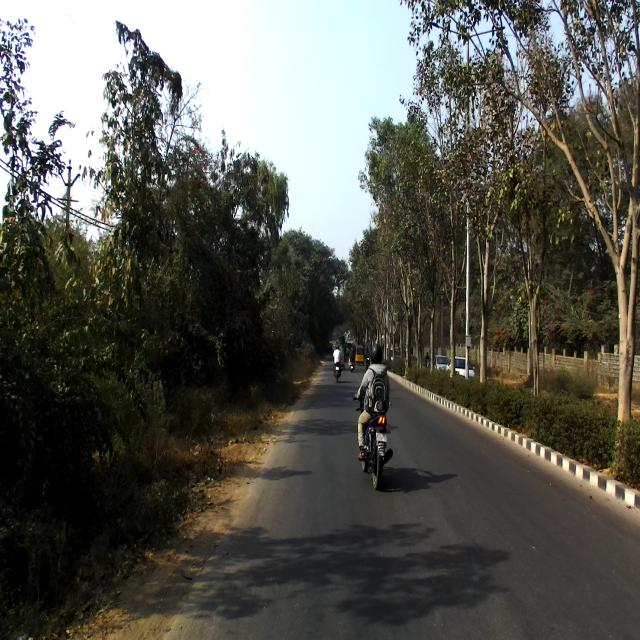motorcycle ahead at: (352, 409, 397, 495)
